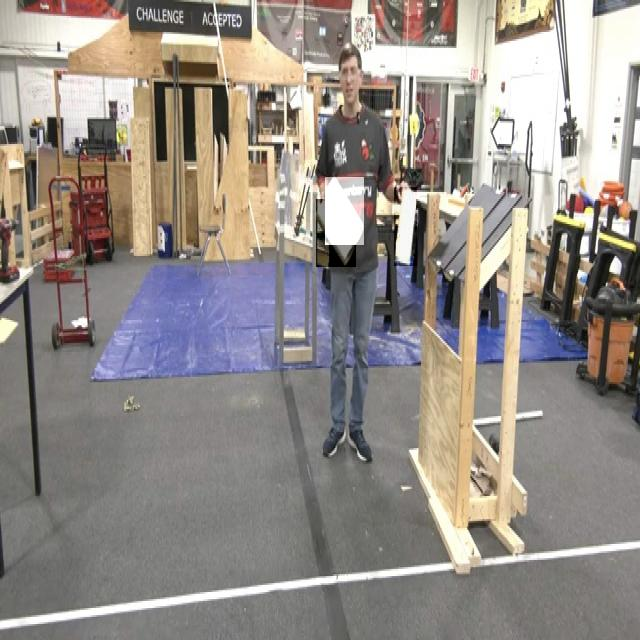Coral: (316, 199, 356, 267), (325, 177, 364, 245), (394, 187, 417, 266)
